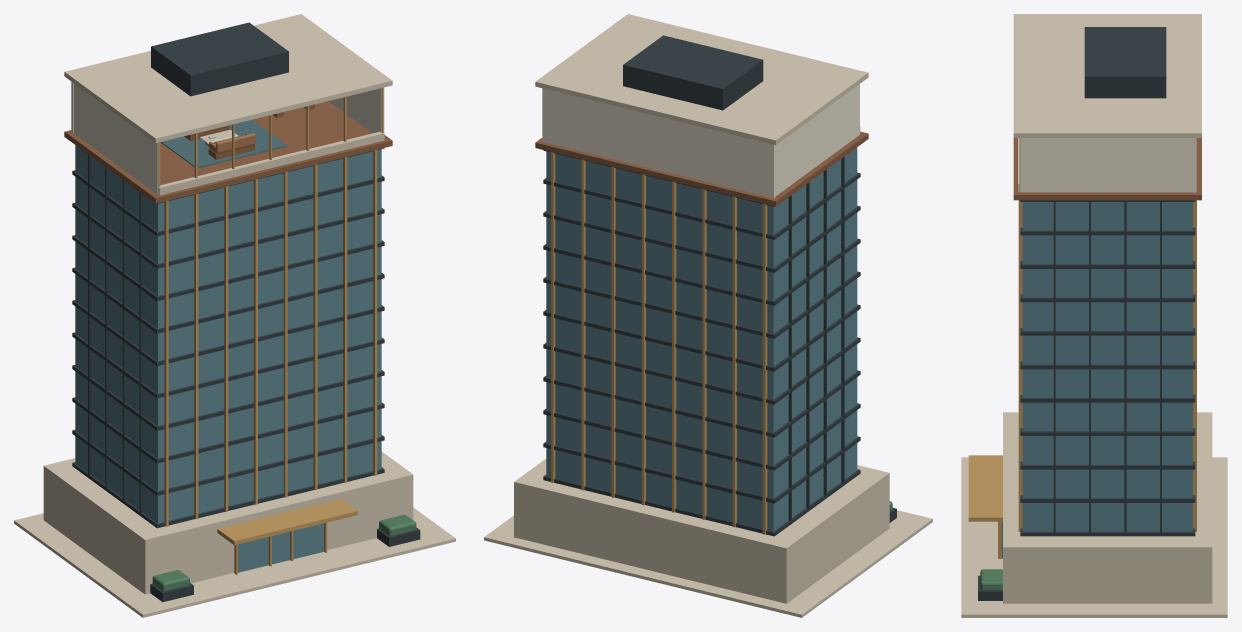
The model's file is toyokawa-executive-tower.glb.
3 views of the same model, side by side, from view 1: azimuth 30°, elevation 25°; view 2: azimuth 150°, elevation 25°; view 3: azimuth 270°, elevation 25° (orthographic). The views are drawn at different scales.
Visible parts, largest first — view 1: Blue grey curtain wall, Warm limestone, Dark mullions, Aged brass, Oiled walnut, Ivory plaster, River blue wool, Foliage, Cognac leather; view 2: Blue grey curtain wall, Warm limestone, Dark mullions, Ivory plaster, Aged brass, Oiled walnut; view 3: Blue grey curtain wall, Warm limestone, Dark mullions, Ivory plaster, Aged brass, Oiled walnut, Foliage.
Boxes of the visible parts, box(x1,y1,x2,y2) form: Blue grey curtain wall: box(75, 145, 381, 572); Warm limestone: box(14, 14, 455, 617); Dark mullions: box(72, 22, 420, 602); Aged brass: box(158, 87, 383, 574); Oiled walnut: box(64, 101, 392, 203); Ivory plaster: box(71, 82, 384, 194); River blue wool: box(160, 120, 287, 168); Foliage: box(152, 514, 416, 591); Cognac leather: box(190, 125, 255, 154); Blue grey curtain wall: box(546, 147, 857, 531); Warm limestone: box(484, 14, 932, 617); Dark mullions: box(543, 35, 896, 536); Ivory plaster: box(542, 84, 859, 198); Aged brass: box(551, 152, 767, 534); Oiled walnut: box(535, 131, 868, 206); Blue grey curtain wall: box(1002, 202, 1192, 558); Warm limestone: box(961, 14, 1227, 617); Dark mullions: box(978, 27, 1195, 600); Ivory plaster: box(1020, 138, 1196, 192); Aged brass: box(968, 138, 1196, 558); Oiled walnut: box(1013, 138, 1201, 200); Foliage: box(980, 569, 1002, 590).
Bounding box in the file's own units: 21 × 30.31 × 15.
